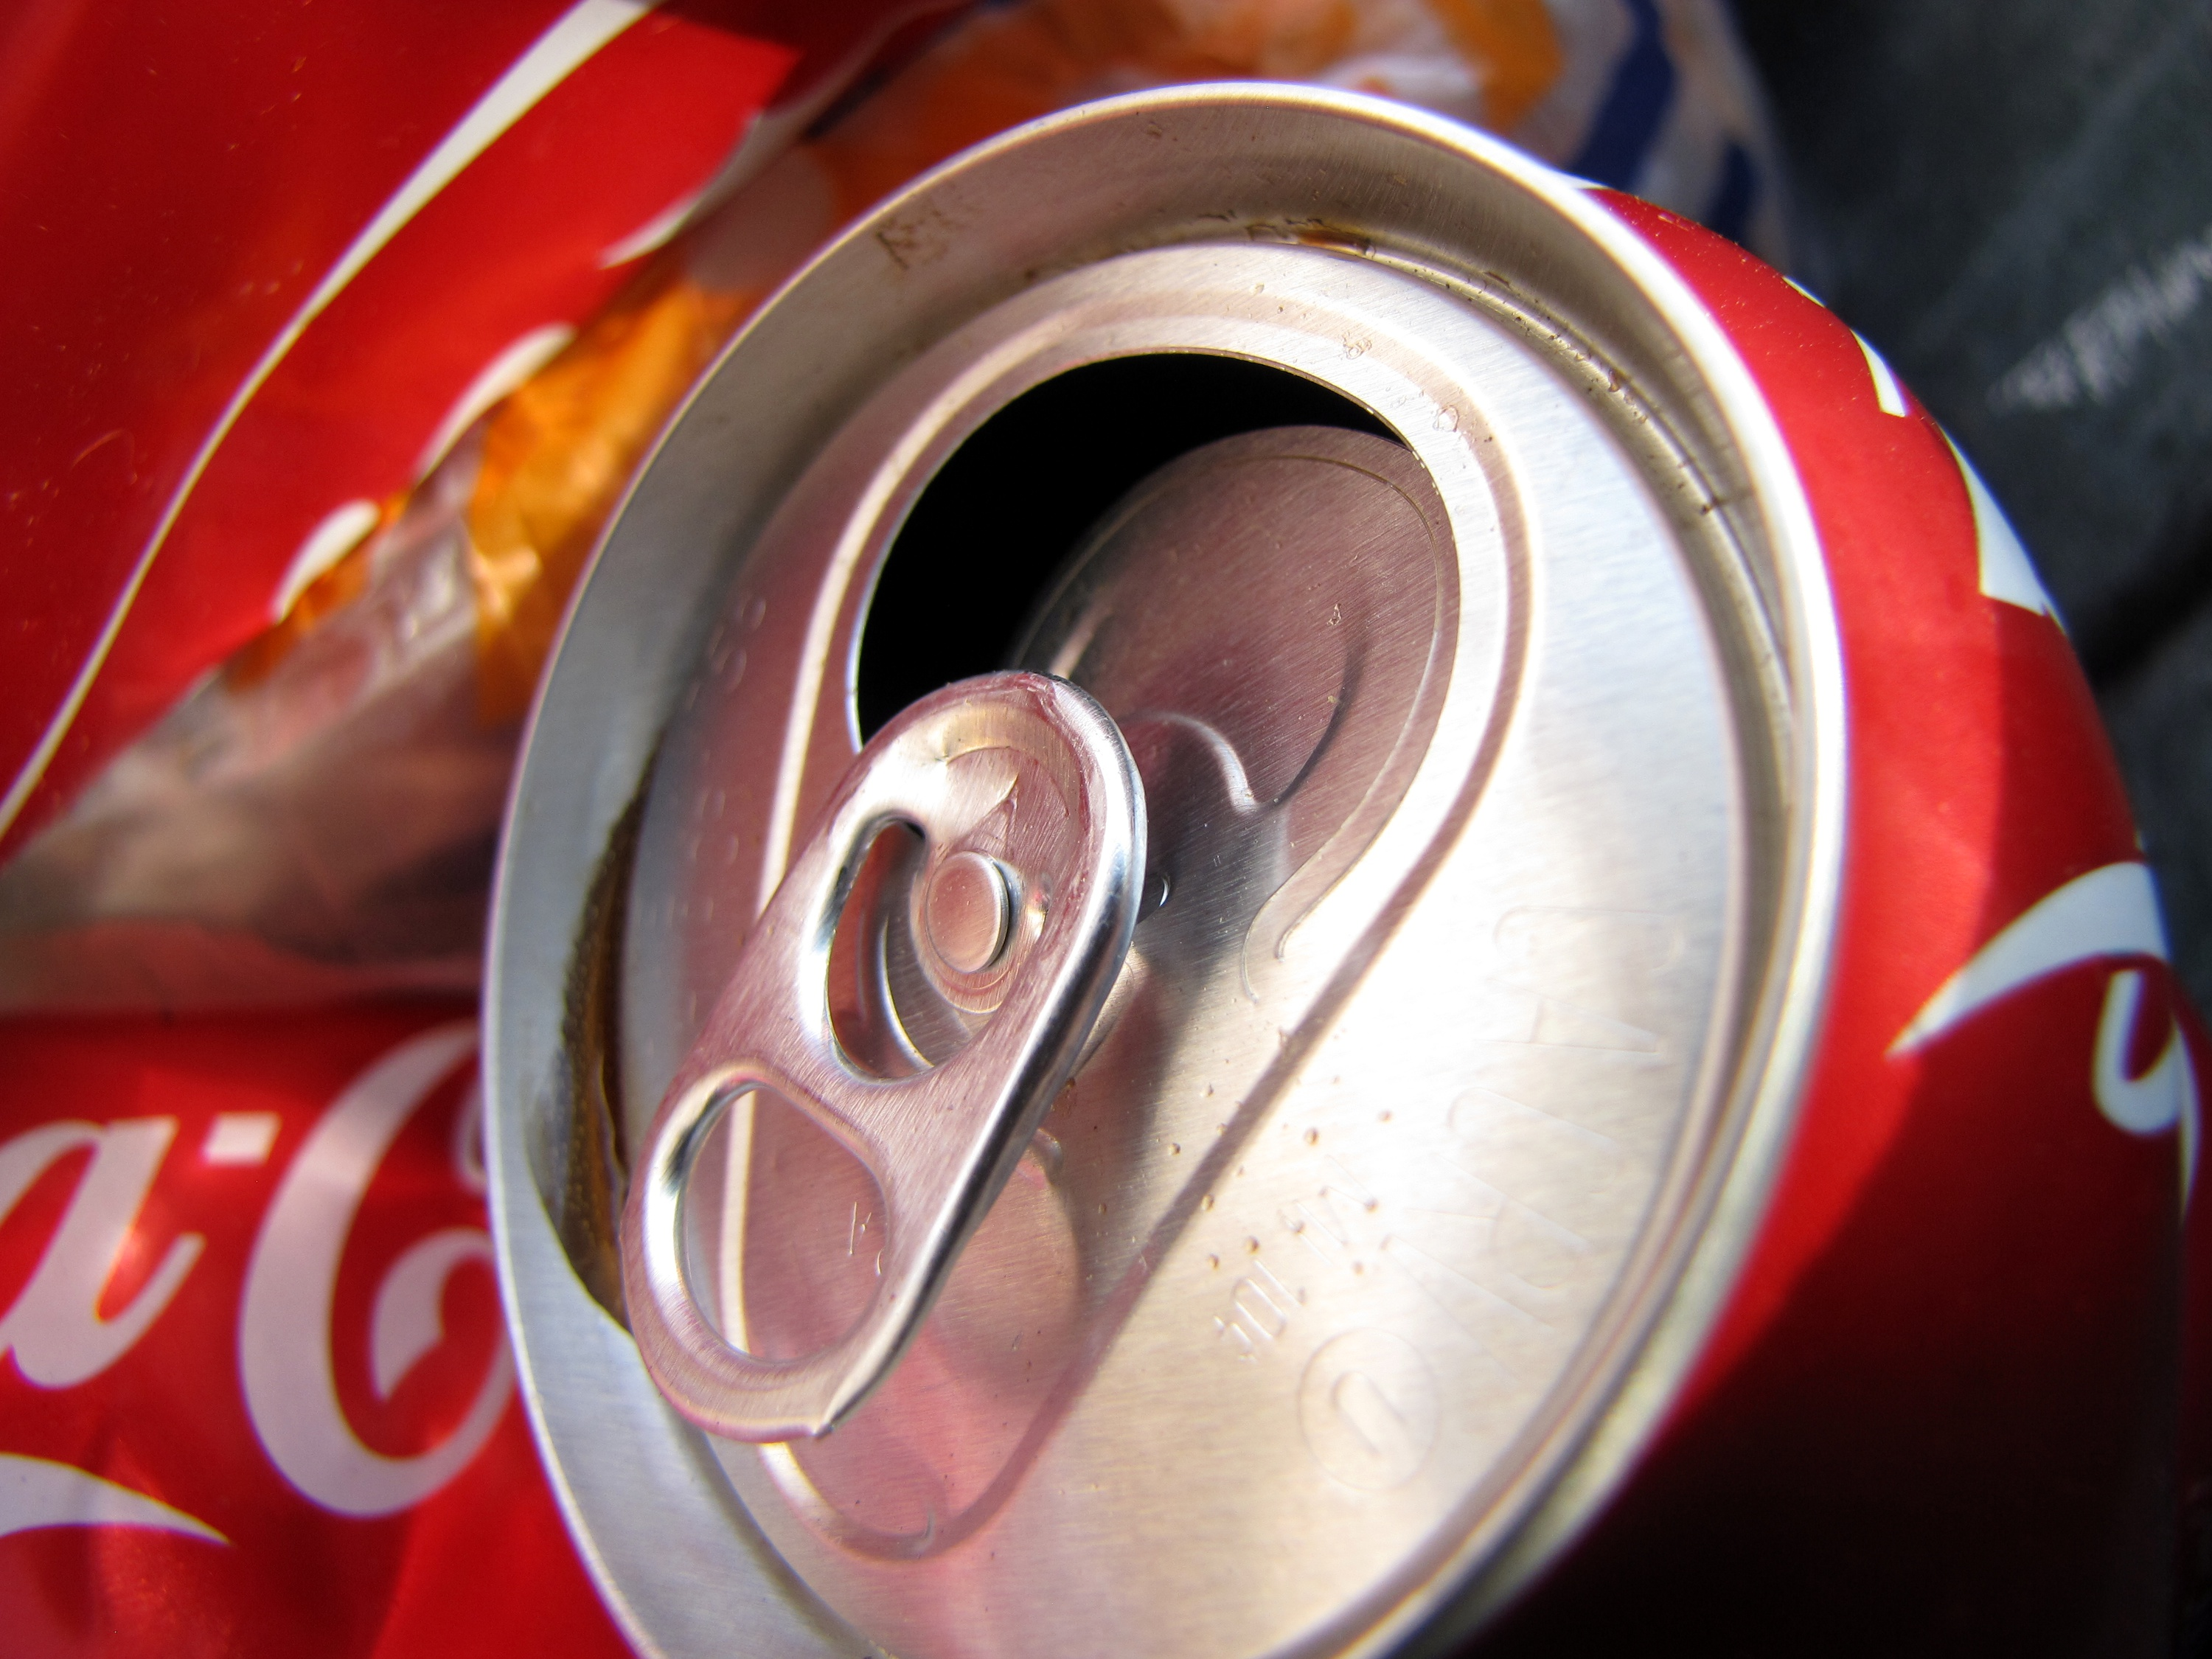coca_cola_can: (496, 71, 2202, 1657)
